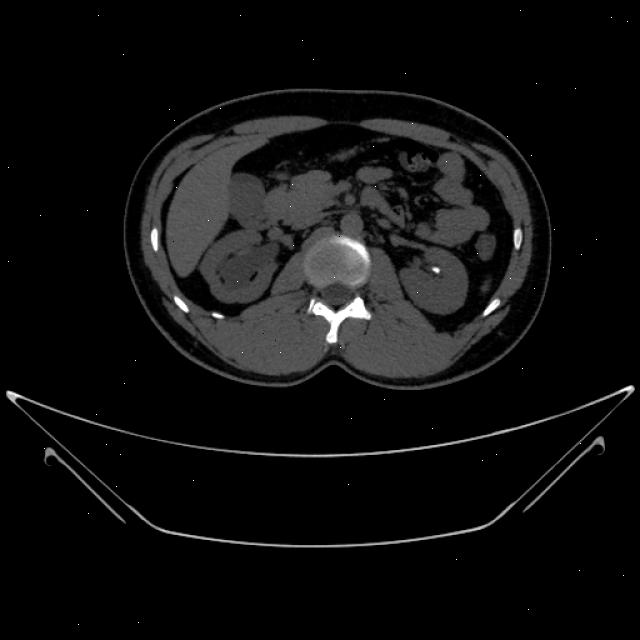kidneystone: (431, 266, 441, 275)
